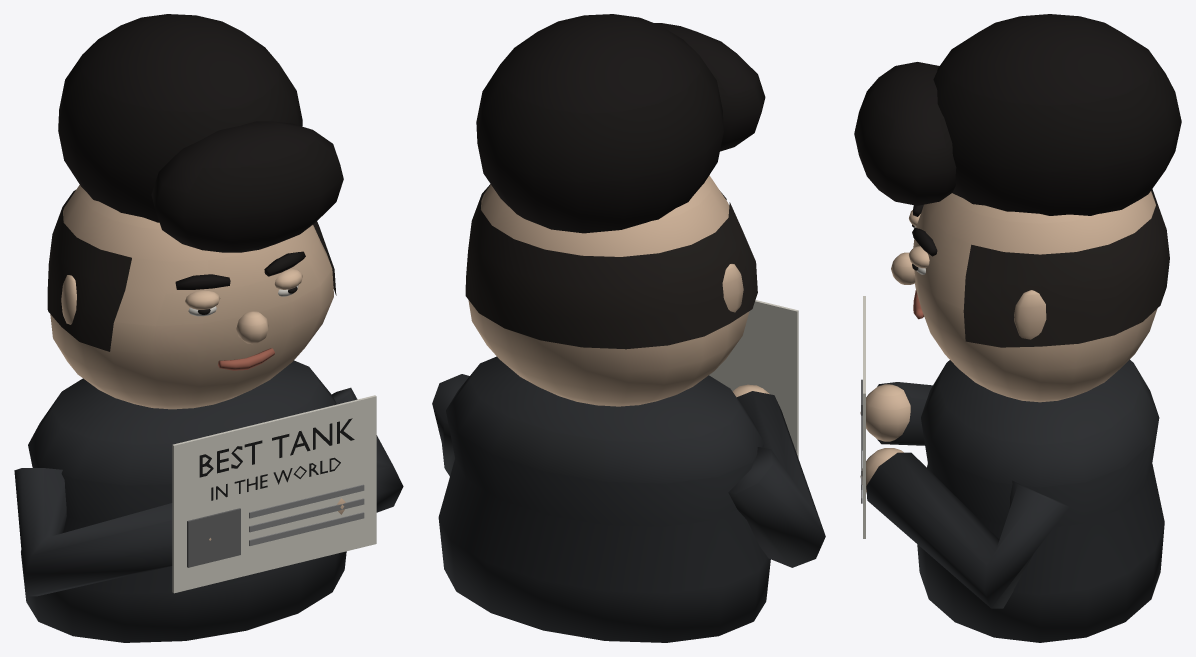
3 renders of one model, left to right at view 1: azimuth 30°, elevation 25°; view 2: azimuth 150°, elevation 25°; view 3: azimuth 270°, elevation 25°, orthographic. The views are drawn at different scales.
Parts seen in each view (by area): view 1: fig_head, fig_body; view 2: fig_head, fig_body; view 3: fig_head, fig_body.
Part boxes in pixels (bbox=[...]): fig_head: bbox=[47, 14, 343, 409]; fig_body: bbox=[14, 360, 403, 642]; fig_head: bbox=[465, 14, 765, 406]; fig_body: bbox=[432, 300, 825, 642]; fig_head: bbox=[854, 14, 1181, 402]; fig_body: bbox=[860, 296, 1164, 642].
Size of the model in its own units: 0.8611 by 1.2 by 0.6526.
